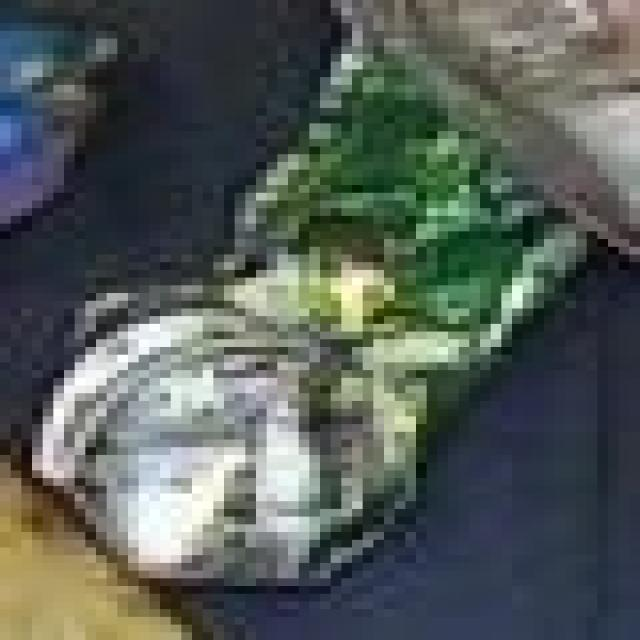can: (0, 74, 640, 614)
